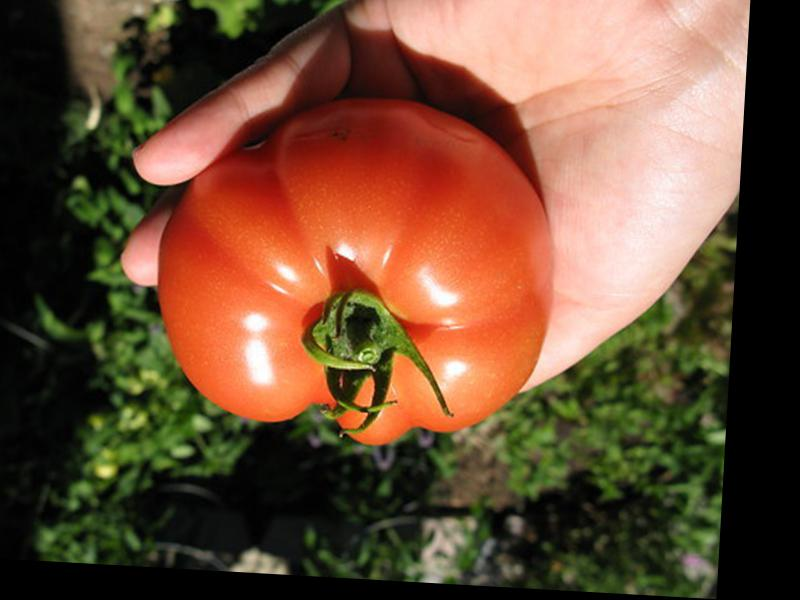Tomato: (148, 91, 559, 454)
